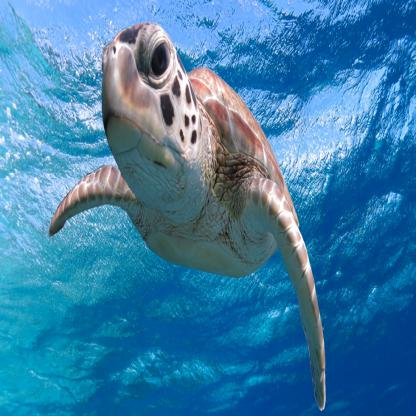turtle: (97, 8, 206, 187)
